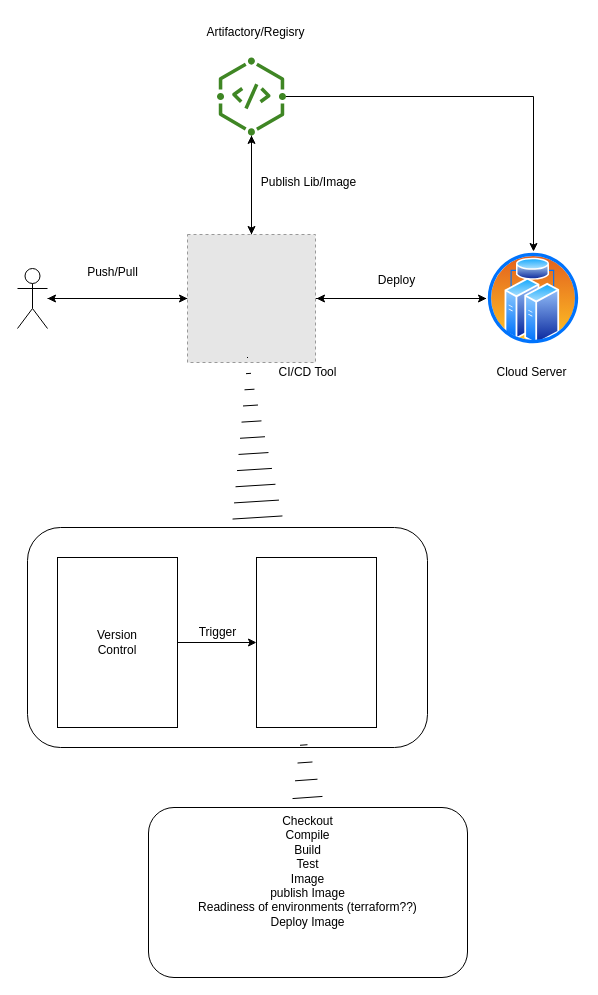
The diagram is 598 pixels wide and 995 high, and some of its shapes have lost their labels. Grey dashed boxes stand in for pictures. The centre of each missing label's shape, as x and y in pixels:
"Dev" belongs at [32,298].
"Workflow In agents" belongs at [316,642].
